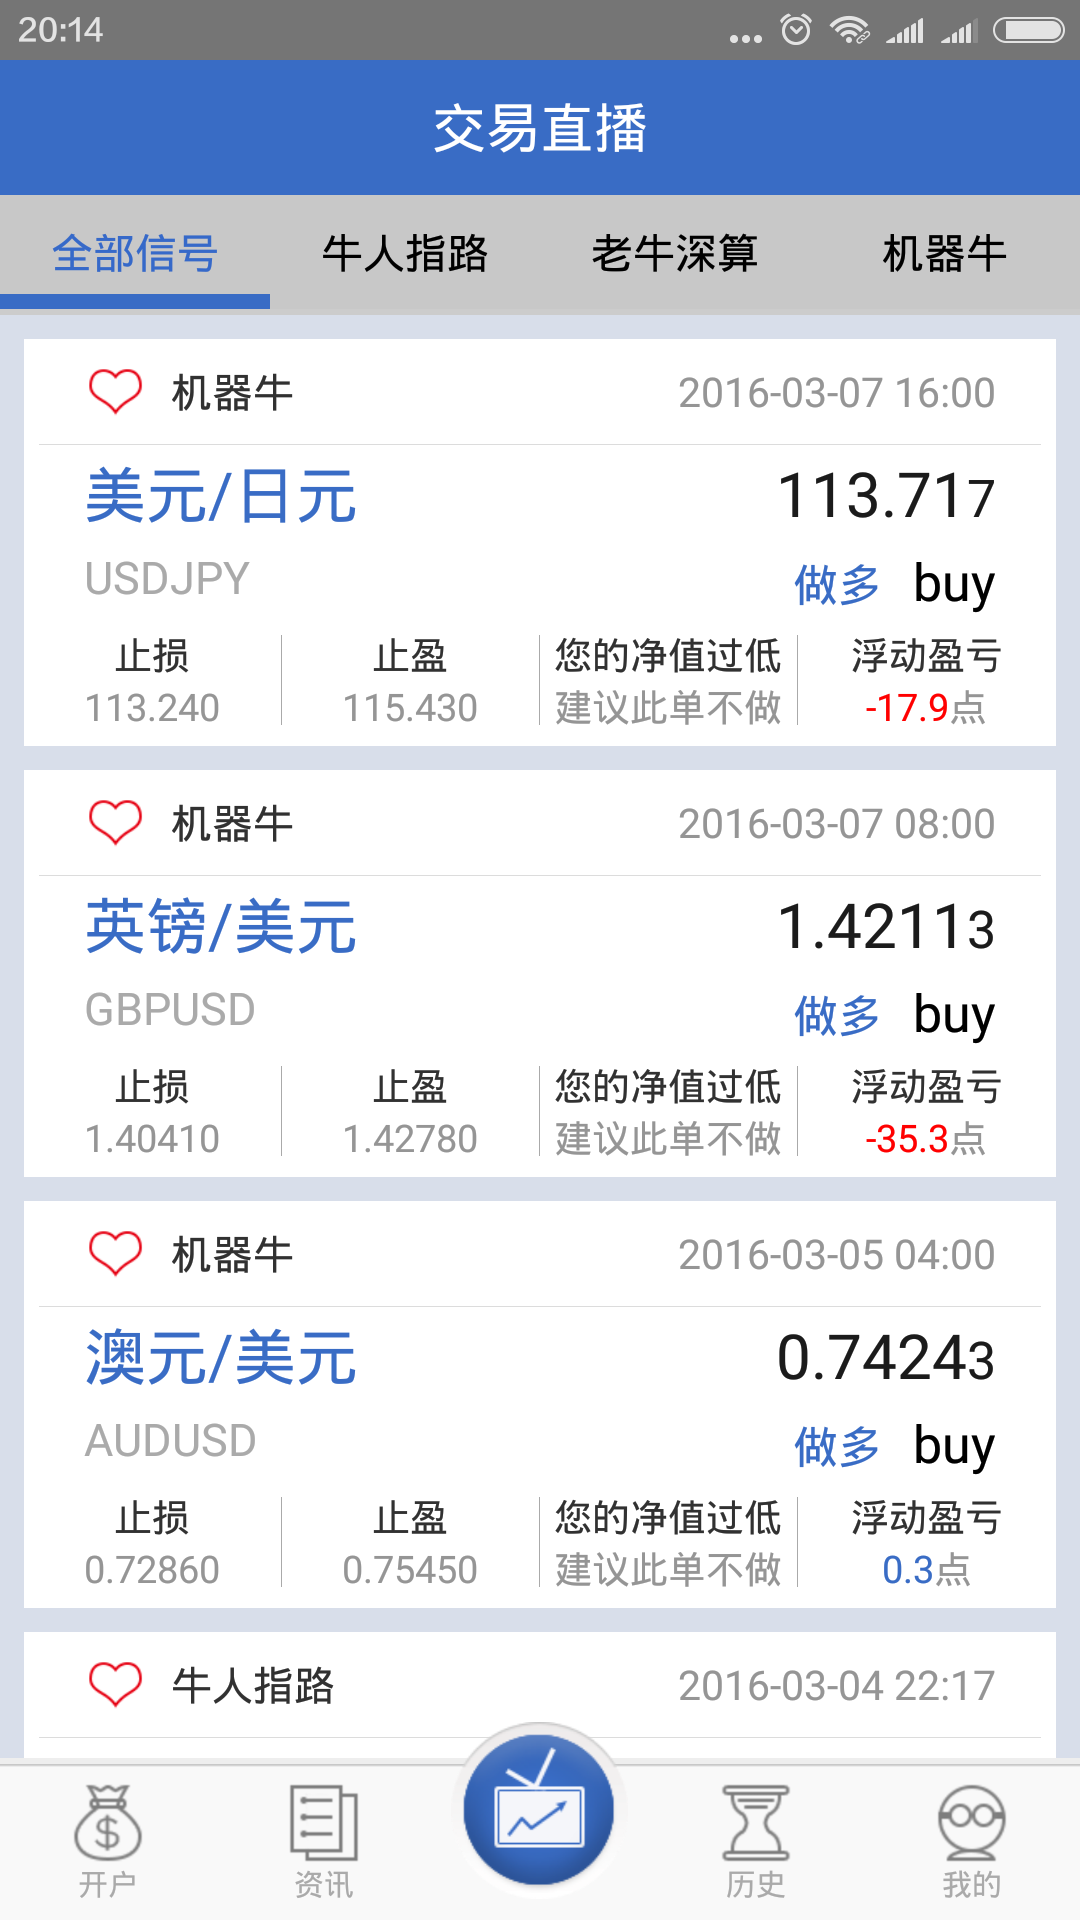imgbutton: (84, 1221, 149, 1284)
textview: (26, 323, 1069, 764), (22, 757, 1059, 1192), (18, 1192, 1069, 1621)
